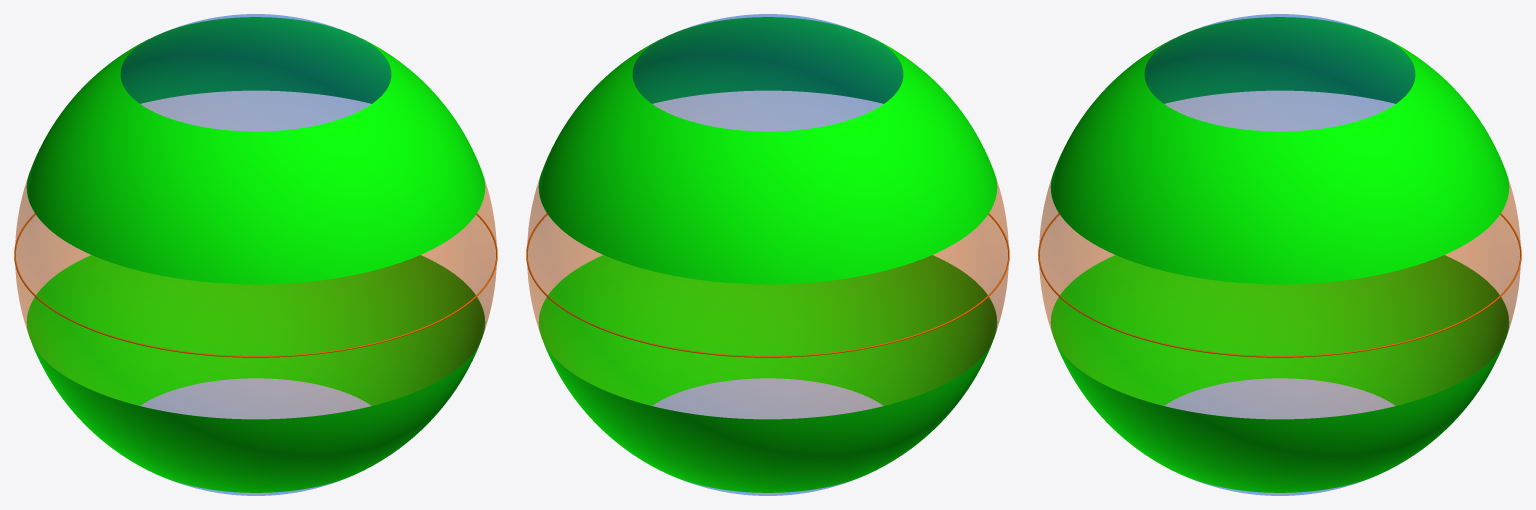
File: wudai.FBX
3 views of the same model, side by side, from view 1: azimuth 30°, elevation 25°; view 2: azimuth 150°, elevation 25°; view 3: azimuth 270°, elevation 25° (orthographic).
Parts seen in each view (by area): view 1: 对象001, 对象002, Sphere001, Torus001; view 2: 对象001, 对象002, Sphere001, Torus001; view 3: 对象001, 对象002, Sphere001, Torus001.
Boxes of the visible parts, x1,y1,x2,y2 form: 对象001: [26, 17, 485, 492]; 对象002: [15, 91, 496, 418]; Sphere001: [121, 14, 390, 495]; Torus001: [14, 213, 497, 357]; 对象001: [538, 17, 997, 492]; 对象002: [527, 91, 1008, 418]; Sphere001: [633, 14, 902, 495]; Torus001: [526, 213, 1009, 357]; 对象001: [1050, 17, 1509, 492]; 对象002: [1039, 91, 1520, 418]; Sphere001: [1145, 14, 1414, 495]; Torus001: [1038, 213, 1521, 357].
Size of the model in its own units: 201 by 200 by 201.
